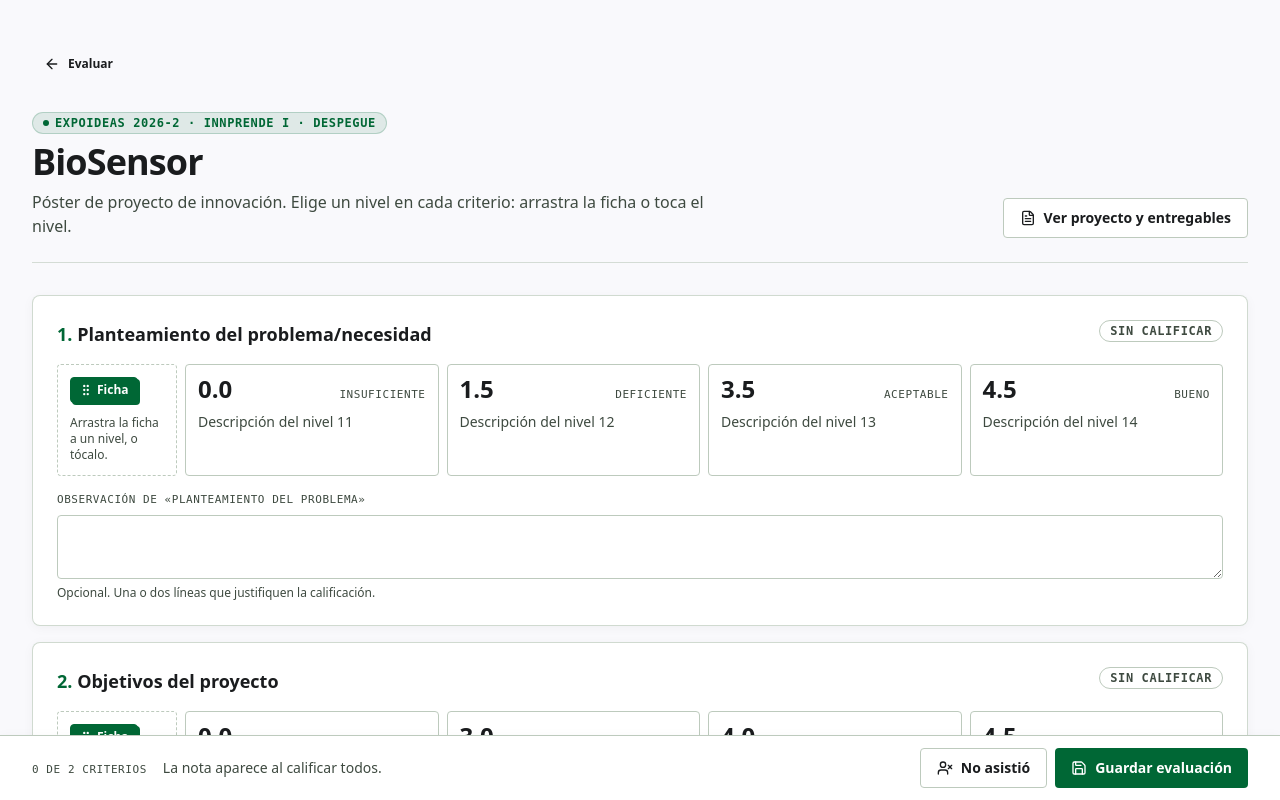
Scenario: El tablero del jurado › no deja guardar con un criterio sin nivel
Click the radio button with aria-label "Bueno, 4.5". click: x=1096, y=420
box: [970,364,1223,476]
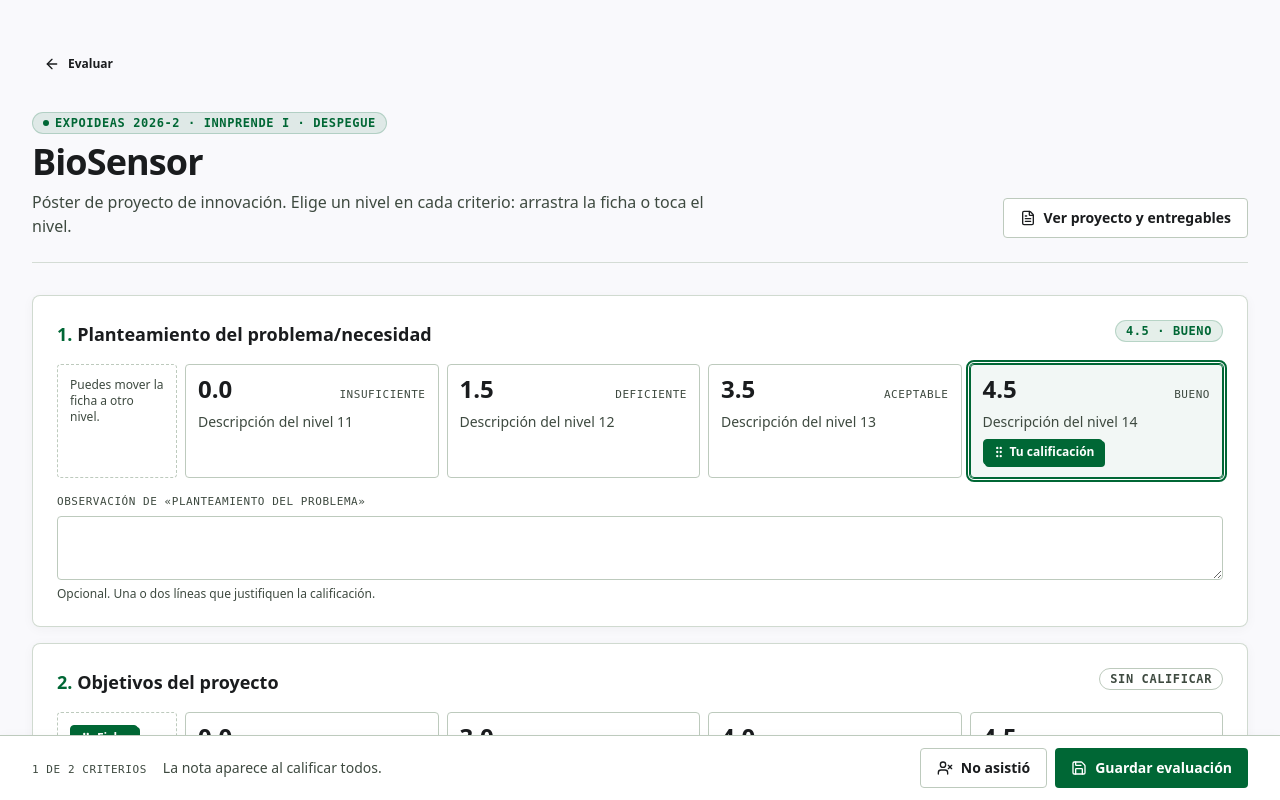
Click the button "Guardar evaluación". click: x=1152, y=768
box: [1055,748,1248,788]
(page scrolled)
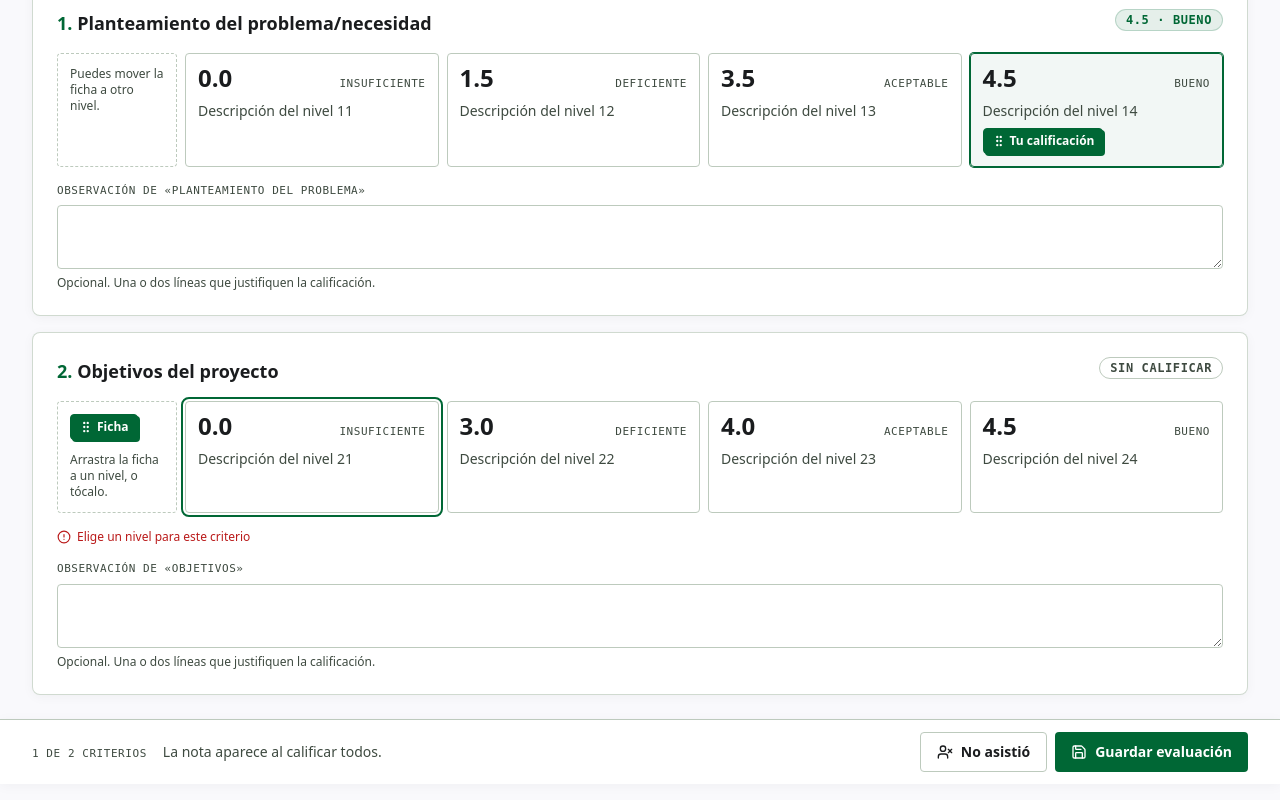
Expected: the text "Elige un nivel para este criterio" is shown, [57,528,250,545]
